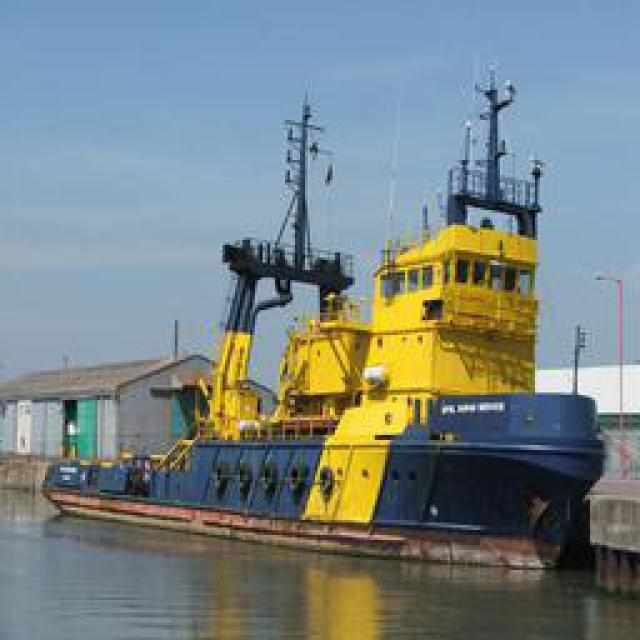Ship: (47, 56, 630, 566)
